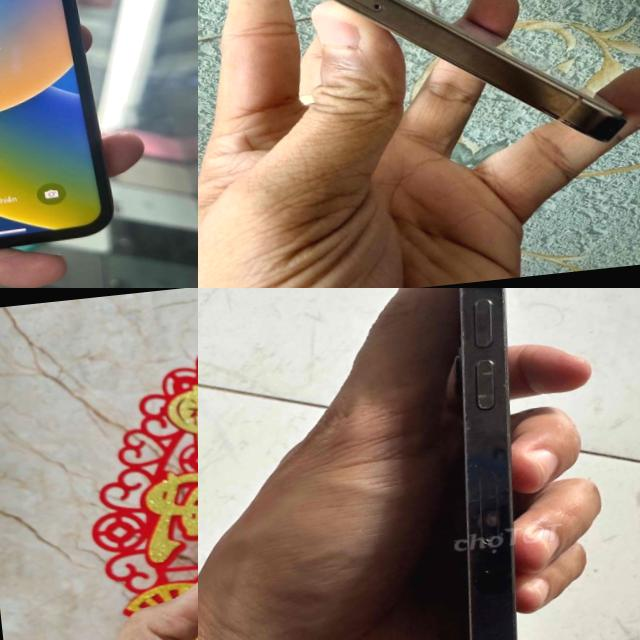gen_14: (407, 288, 585, 640)
gen_16: (198, 0, 640, 200)
gen_x_xs: (0, 0, 132, 280)
